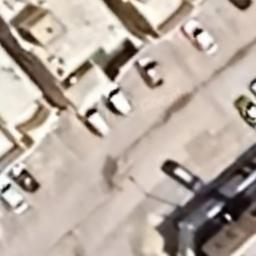SUV: (95, 80, 132, 116), (82, 104, 110, 137)
sedan: (184, 18, 218, 54), (0, 178, 30, 217), (135, 55, 166, 89)
